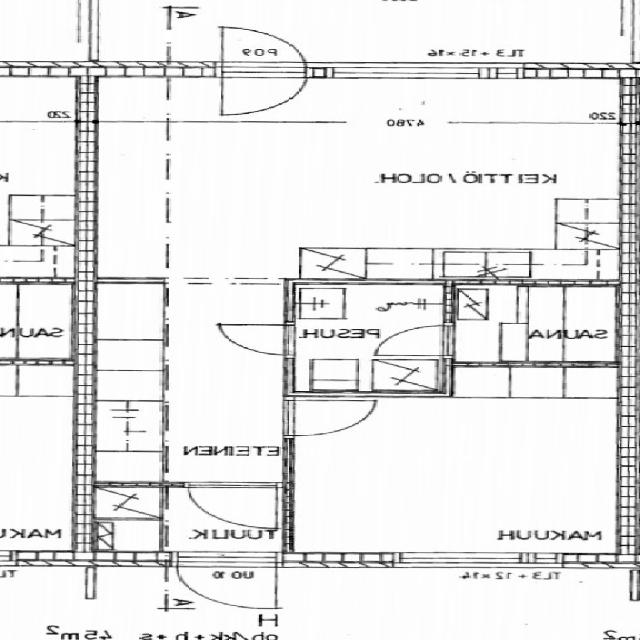door: (179, 551, 275, 610), (222, 25, 306, 78), (222, 62, 306, 114), (190, 482, 277, 526), (284, 400, 374, 435), (216, 325, 294, 355), (379, 326, 453, 355)
